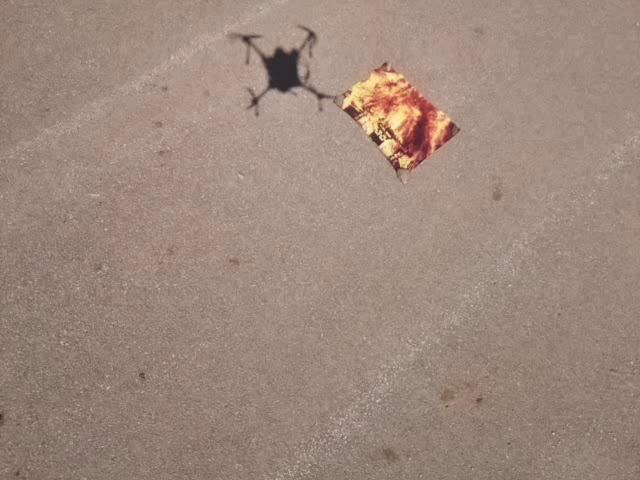fire-poster: (333, 59, 462, 185)
